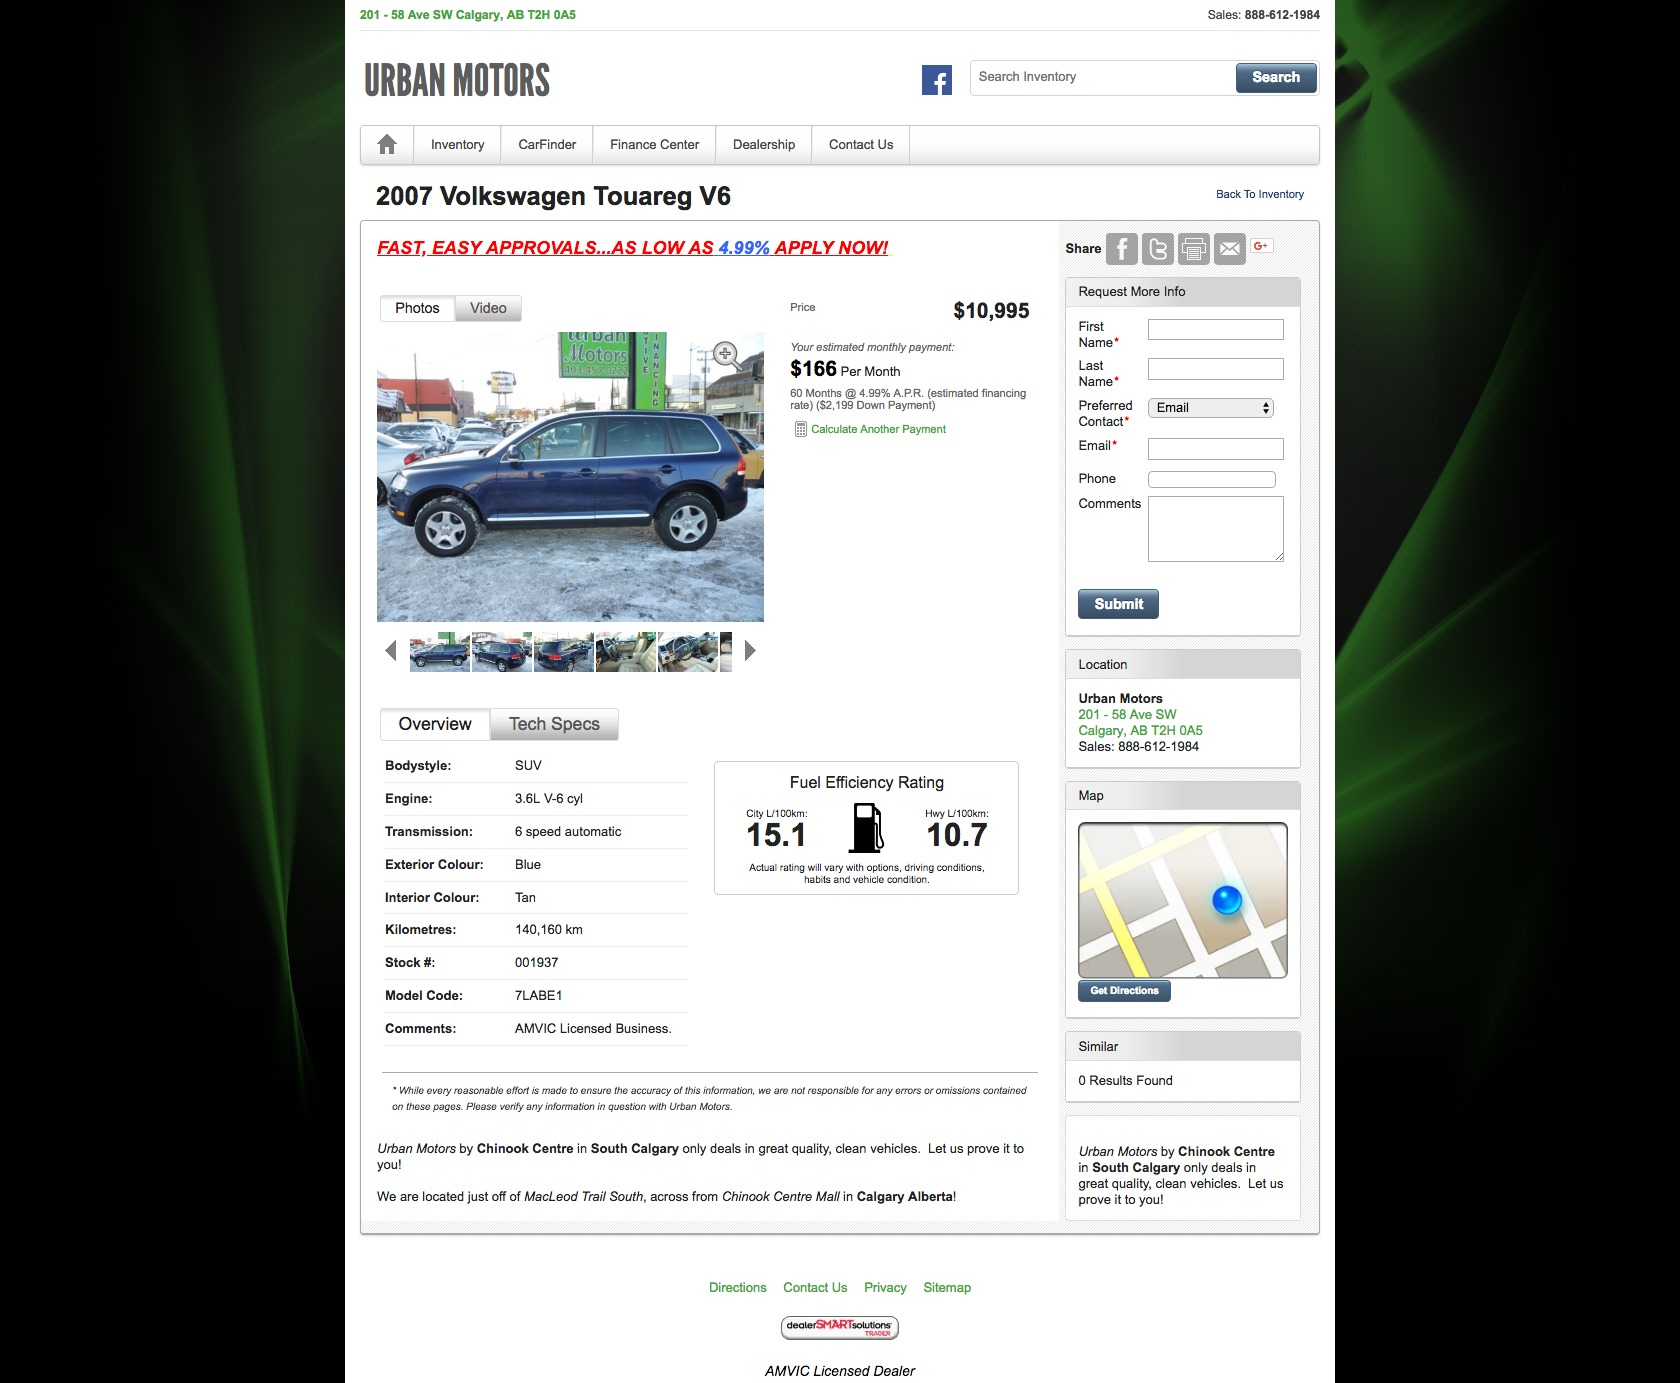car: (744, 639, 758, 664)
